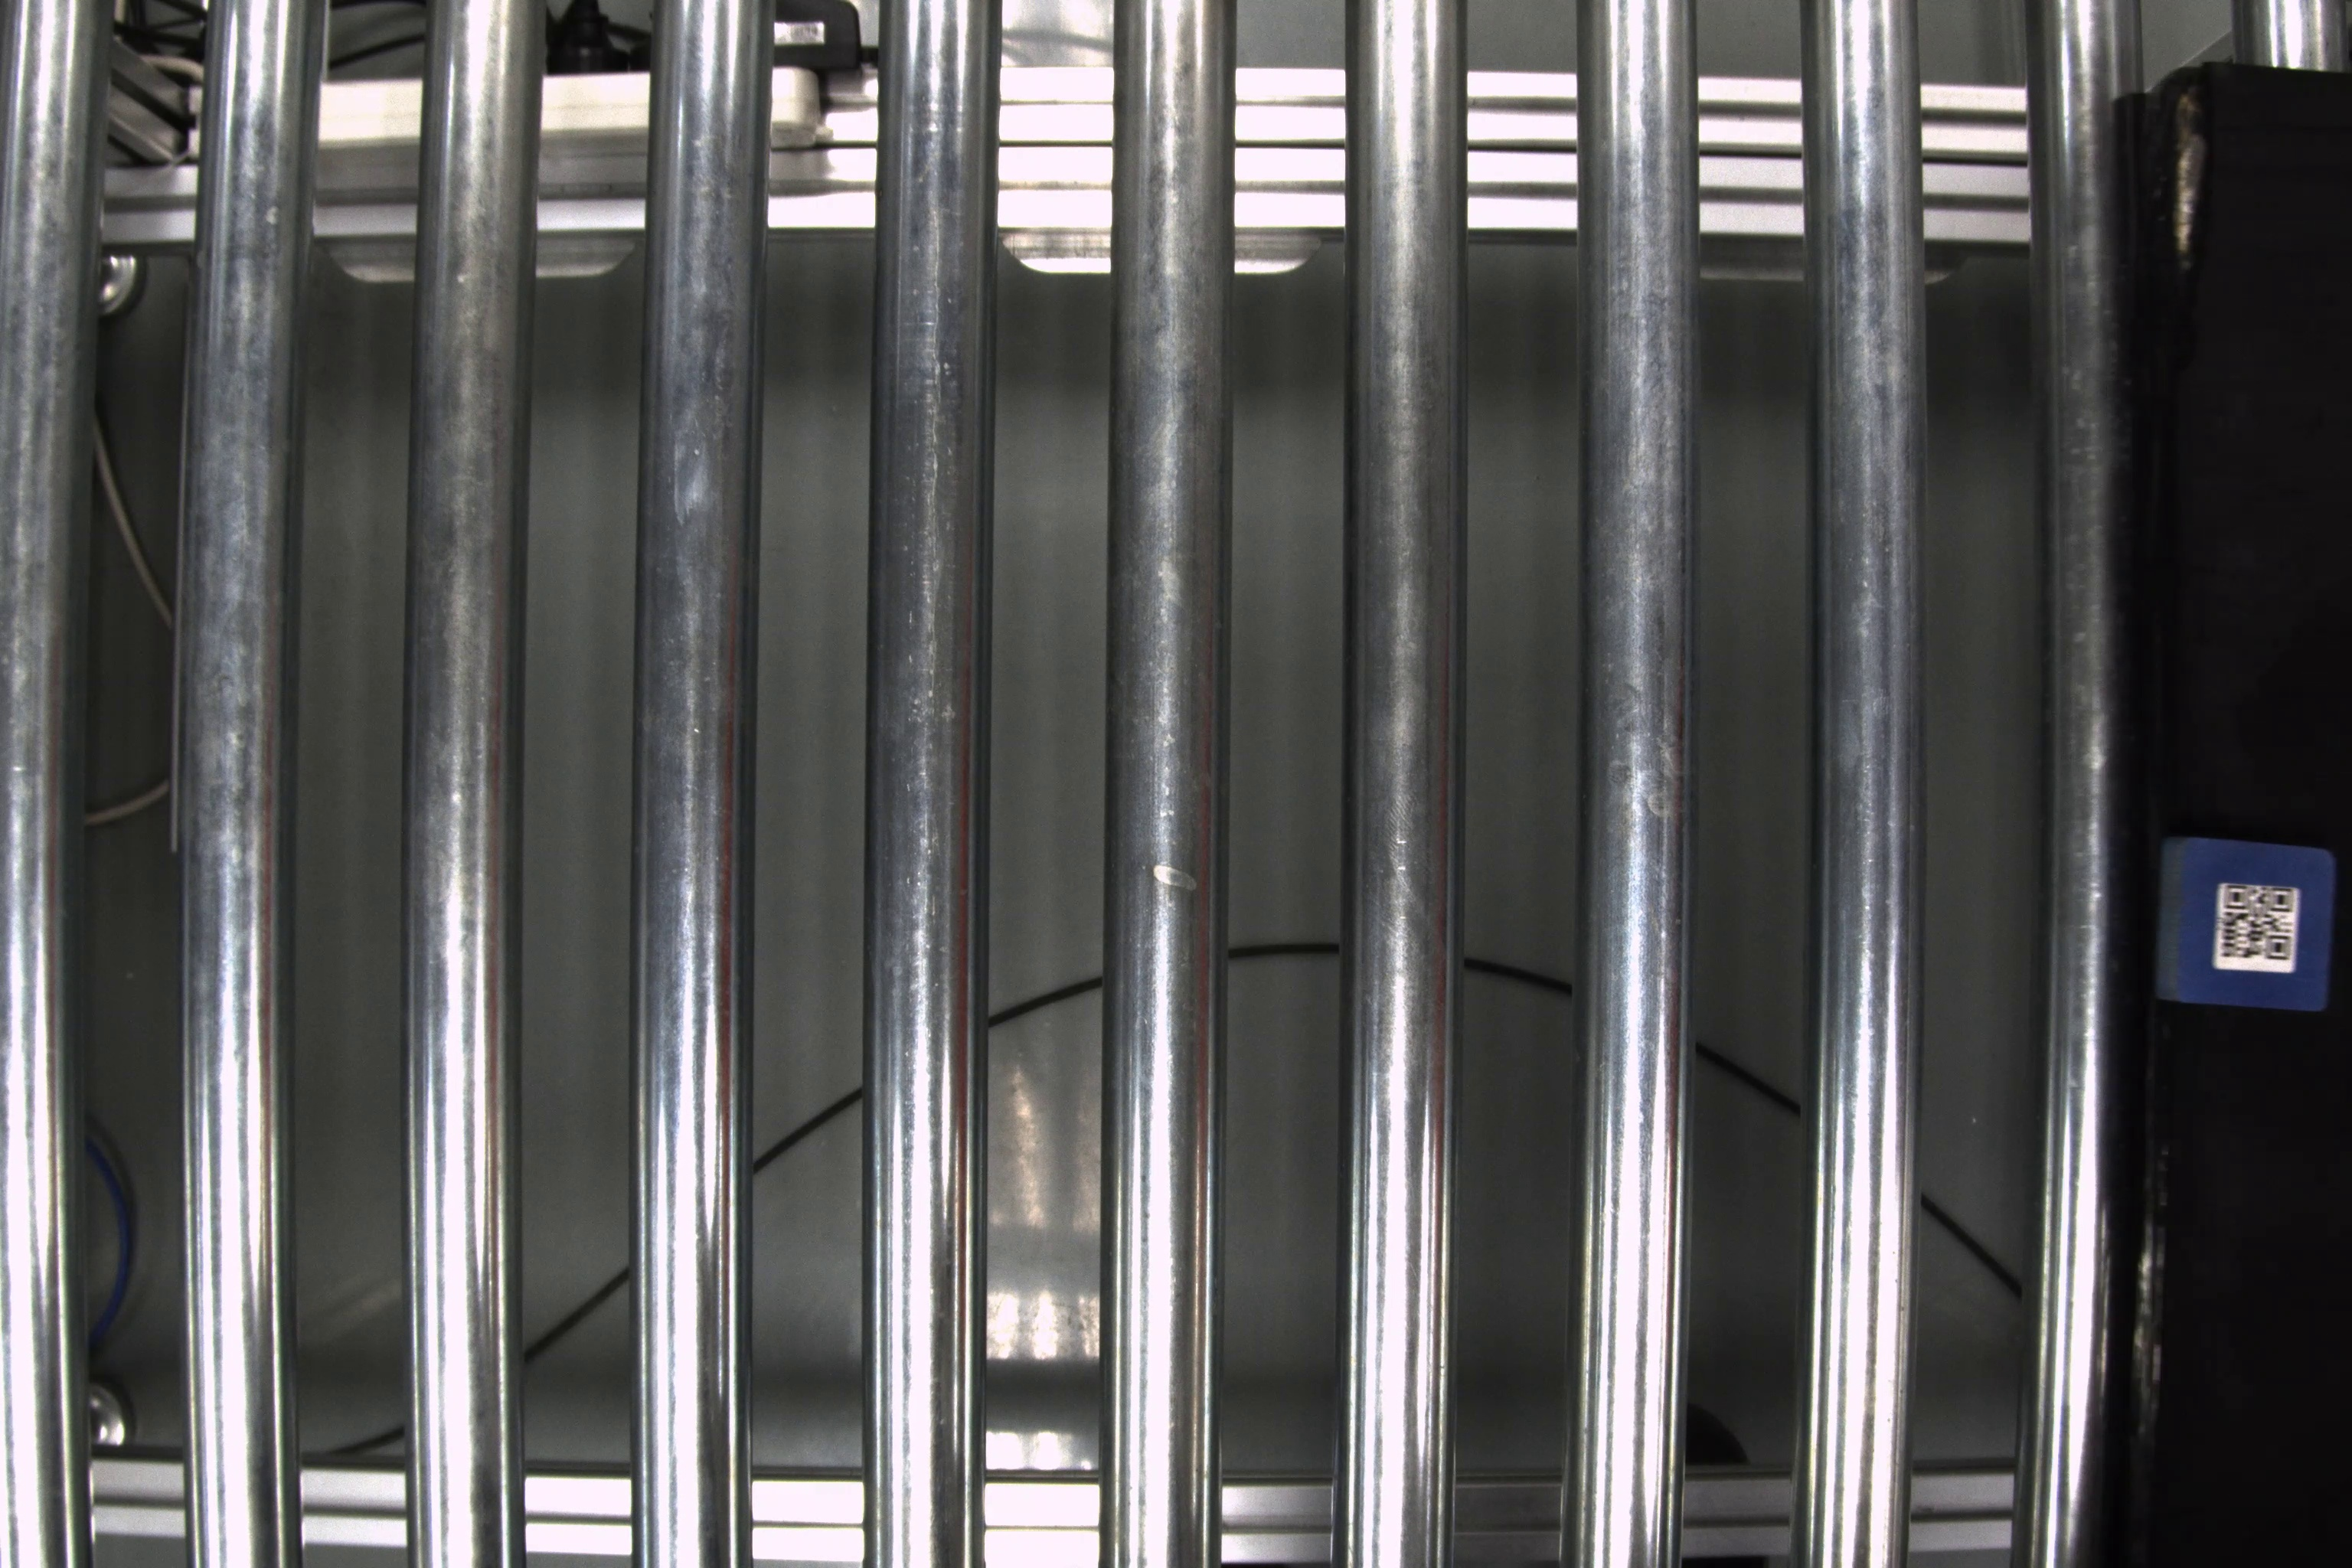wood: (2154, 831, 2340, 1015)
